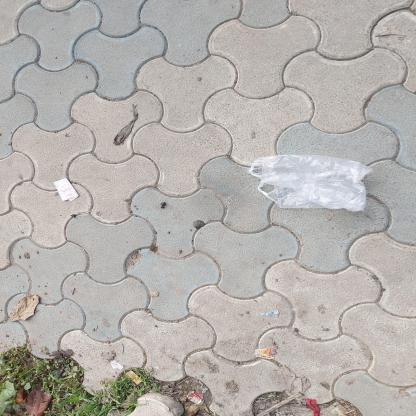kagit: (216, 55, 240, 81)
plastik: (205, 249, 263, 375)
